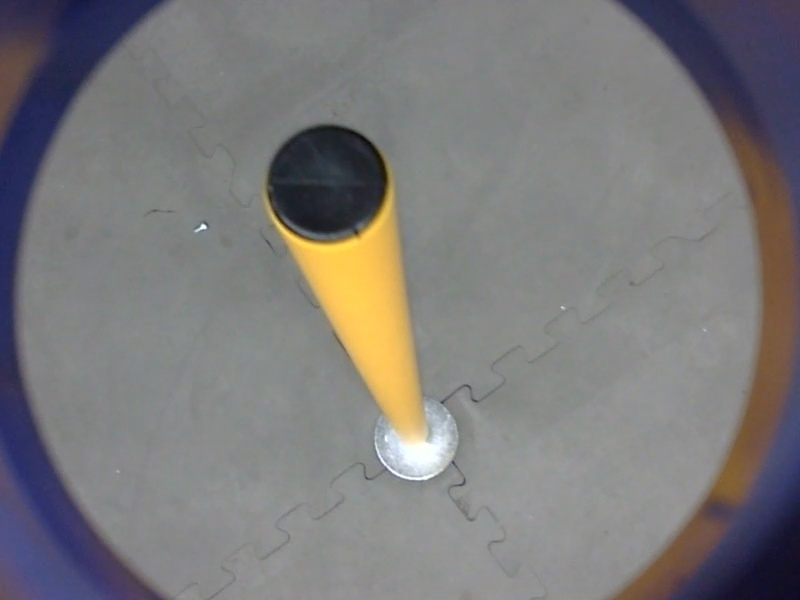tip: (255, 116, 402, 258)
